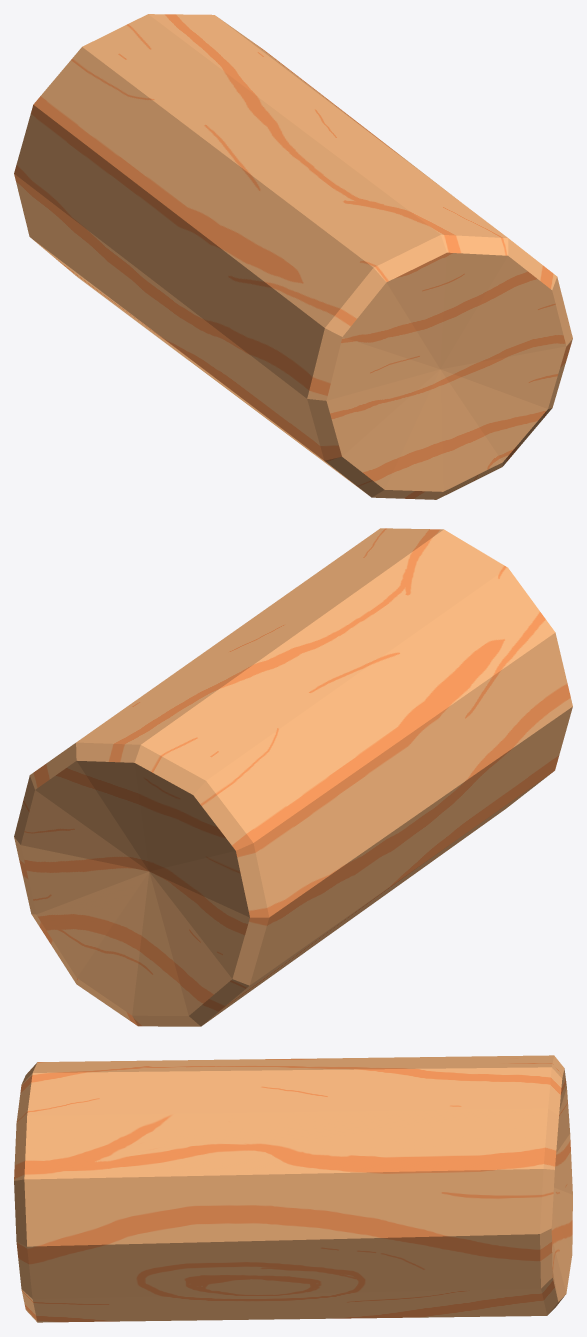
Rendered from resources_wood.fbx.
The picture shows the model from 3 angles, top to bottom: view 1: azimuth 30°, elevation 25°; view 2: azimuth 150°, elevation 25°; view 3: azimuth 270°, elevation 25°; orthographic projection. The views are drawn at different scales.
Parts seen in each view (by area): view 1: Wood; view 2: Wood; view 3: Wood.
Part boxes in pixels (left/top/right/bottom): Wood: left=14, top=14, right=572, bottom=499; Wood: left=14, top=528, right=572, bottom=1026; Wood: left=14, top=1055, right=572, bottom=1322.
Bounding box in the file's own units: 212 × 102 × 100.
